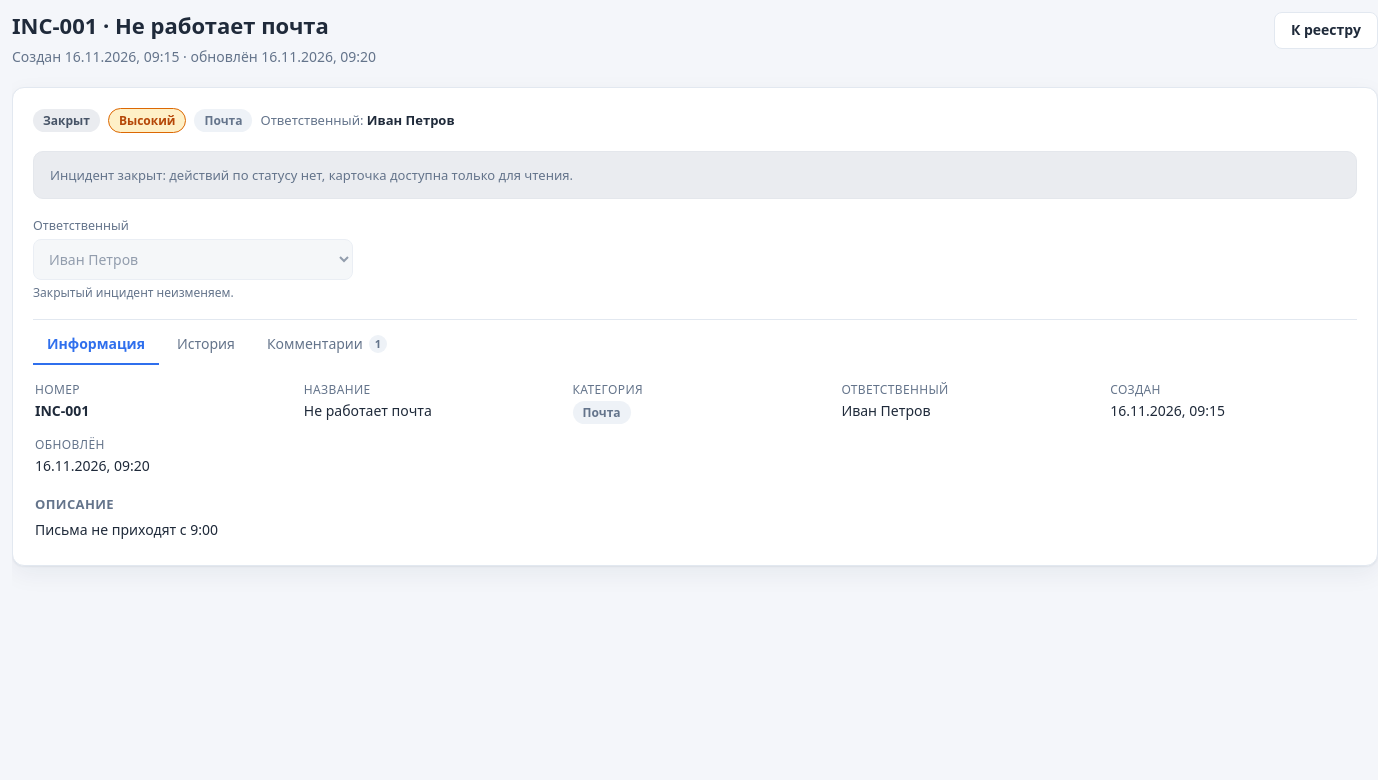
IncidentDetailPage — карточка › для Closed не показывает форму комментария
The image size is (1378, 780).
Expected: the heading "INC-001 · Не работает почта" is shown, [12, 12, 376, 40]
Click the tab "Комментарии 1".
click(327, 345)  # box [253, 324, 401, 365]
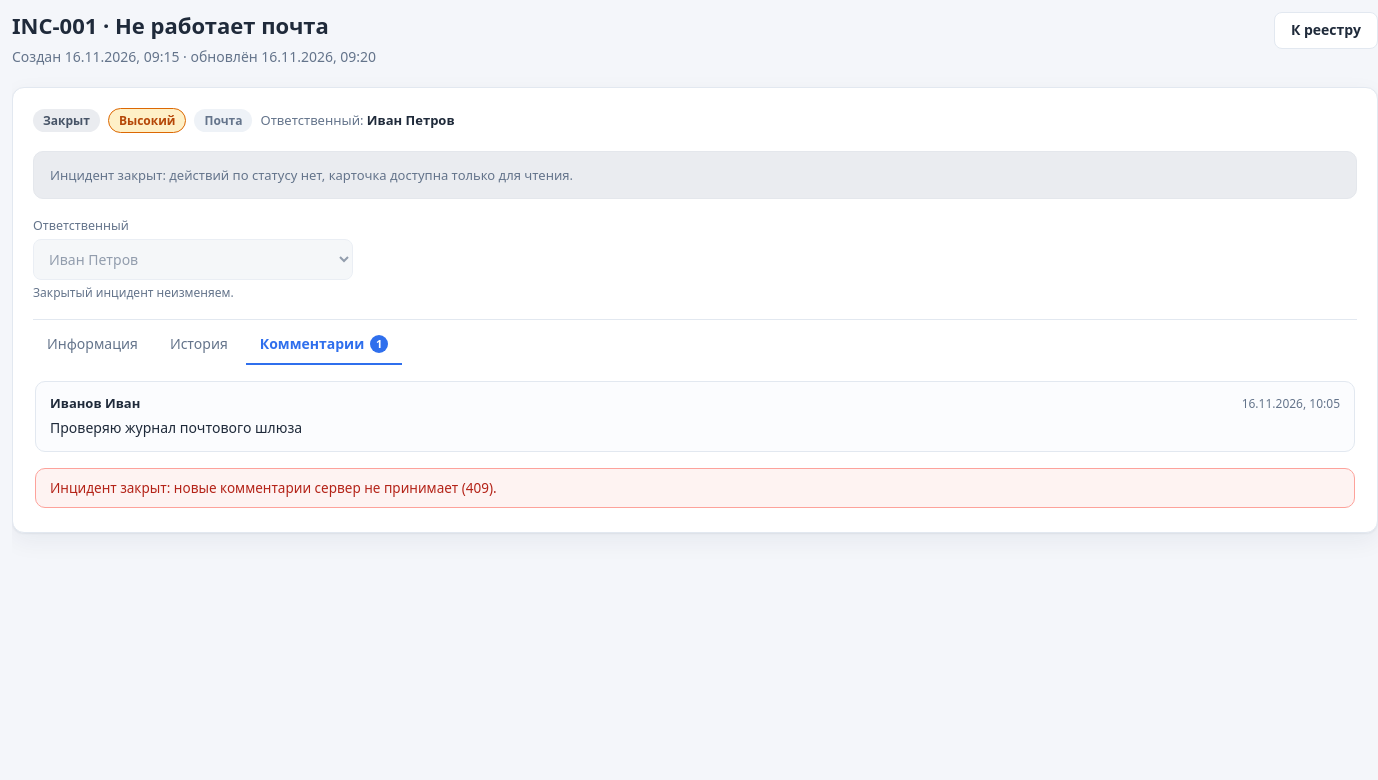
Now the text "Проверяю журнал почтового шлюза" is shown, box [50, 418, 302, 437]
Now the text "Инцидент закрыт: новые комментарии сервер не принимает (409)." is shown, box [35, 468, 1355, 508]
